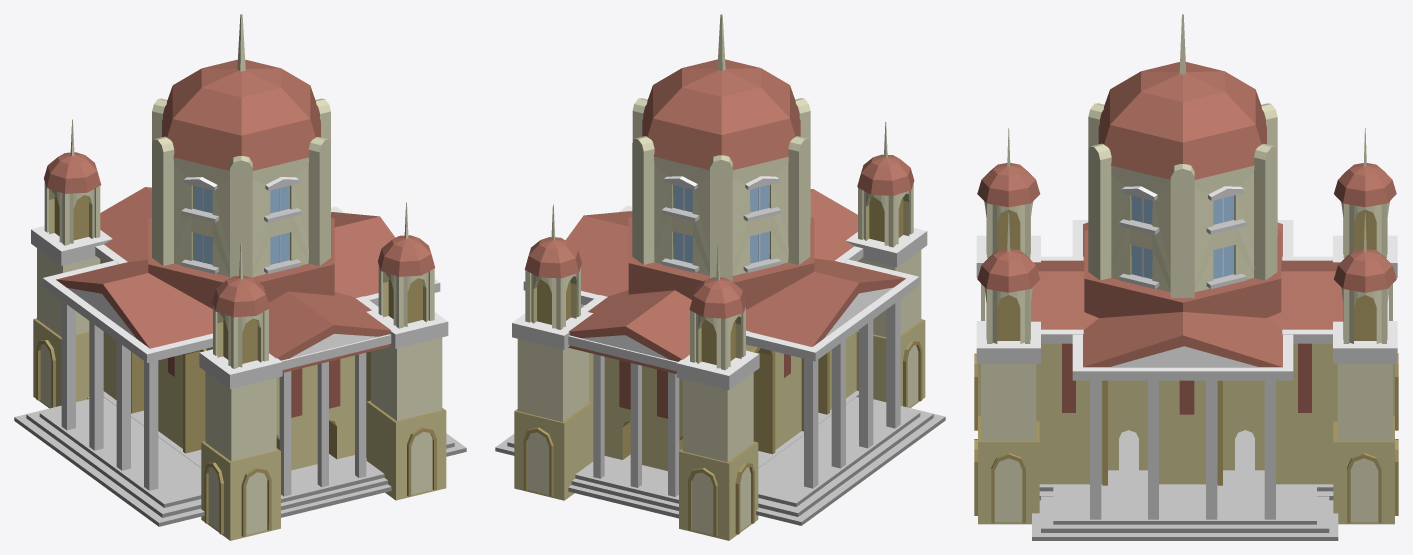
The model's file is temple_002.fbx.
The picture shows the model from 3 angles, left to right: view 1: azimuth 30°, elevation 25°; view 2: azimuth 150°, elevation 25°; view 3: azimuth 270°, elevation 25°; orthographic projection. The views are drawn at different scales.
Visible parts, largest first — view 1: temple_002; view 2: temple_002; view 3: temple_002.
Boxes of the visible parts, x1,y1,x2,y2 form: temple_002: [14, 14, 466, 540]; temple_002: [495, 14, 945, 540]; temple_002: [974, 14, 1398, 540].
Bounding box in the file's own units: 1521 × 2029 × 1719.
